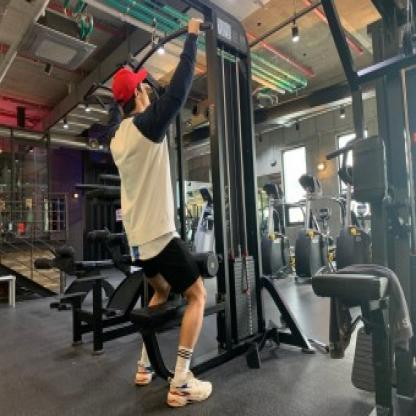Lat Pull Down: (48, 5, 319, 416)
